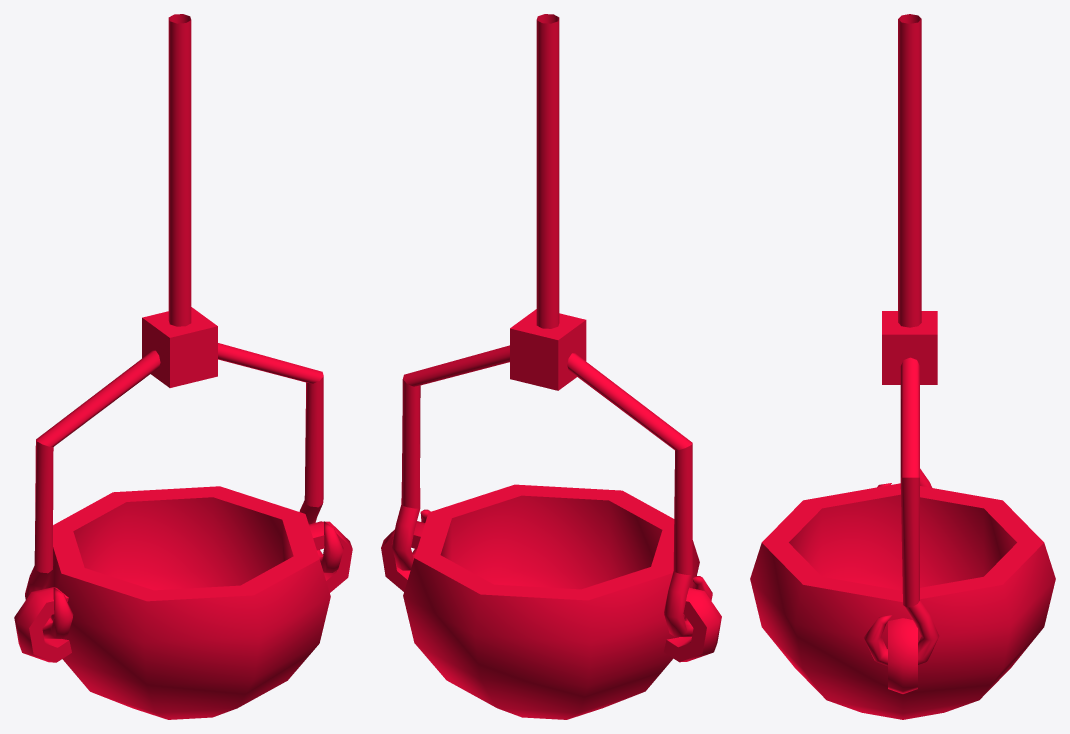
Rendered from CastingRoom_Pot.fbx.
The picture shows the model from 3 angles, left to right: view 1: azimuth 30°, elevation 25°; view 2: azimuth 150°, elevation 25°; view 3: azimuth 270°, elevation 25°; orthographic projection.
Parts seen in each view (by area): view 1: CastingRoom_Pot; view 2: CastingRoom_Pot; view 3: CastingRoom_Pot.
Part boxes in pixels (x1=…): CastingRoom_Pot: x1=14, y1=14, x2=352, y2=719; CastingRoom_Pot: x1=381, y1=14, x2=721, y2=719; CastingRoom_Pot: x1=750, y1=14, x2=1055, y2=719.
Bounding box in the file's own units: 338 × 664 × 268.
